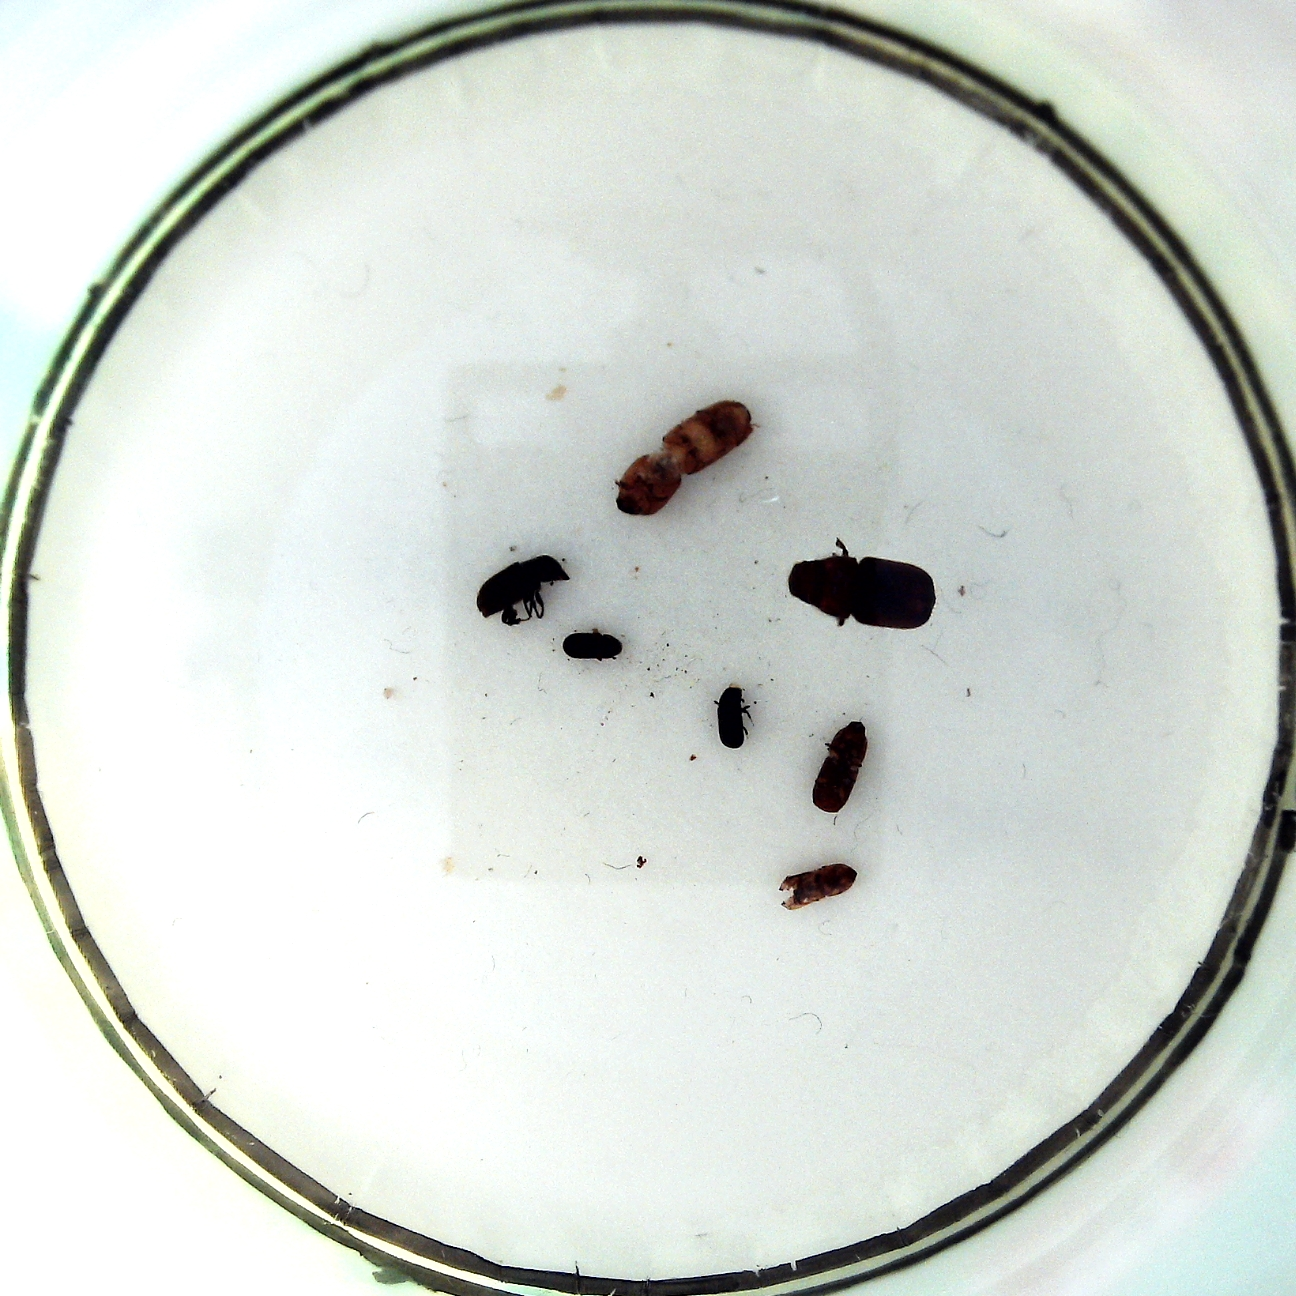Boerner: (616, 400, 755, 519)
Leconte: (786, 538, 938, 629)
Linnaeus: (809, 717, 872, 814)
acuminatus: (777, 863, 858, 911)
armandi: (476, 554, 572, 625)
coleoptera: (713, 685, 756, 750), (561, 627, 625, 663)
